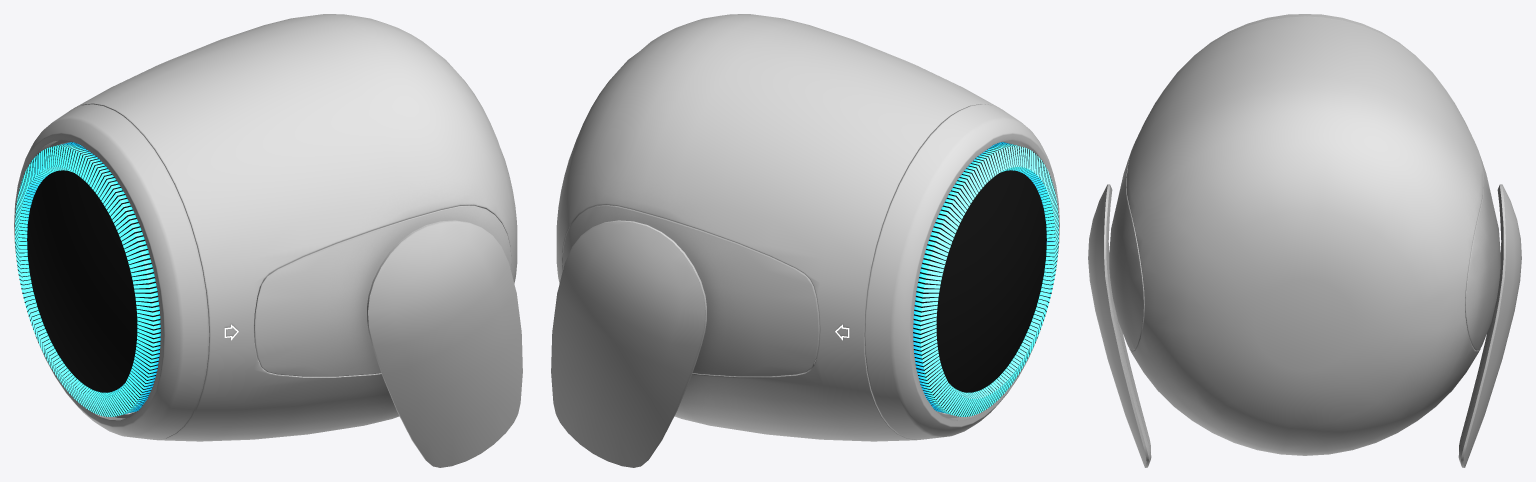
Rendered from Robot_Renaud.glb.
3 renders of one model, left to right at view 1: azimuth 30°, elevation 25°; view 2: azimuth 150°, elevation 25°; view 3: azimuth 270°, elevation 25°, orthographic. The views are drawn at different scales.
Visible parts, largest first — view 1: Body, Screen, Halo; view 2: Body, Screen, Halo; view 3: Body.
Boxes of the visible parts, x1,y1,x2,y2 form: Body: [14, 14, 522, 467]; Screen: [27, 170, 137, 392]; Halo: [15, 142, 160, 416]; Body: [551, 14, 1059, 467]; Screen: [936, 170, 1046, 392]; Halo: [913, 142, 1058, 416]; Body: [1088, 14, 1521, 467].
Size of the model in its own units: 1.19 by 1.07 by 1.16.
3 materials, 3 textured.
